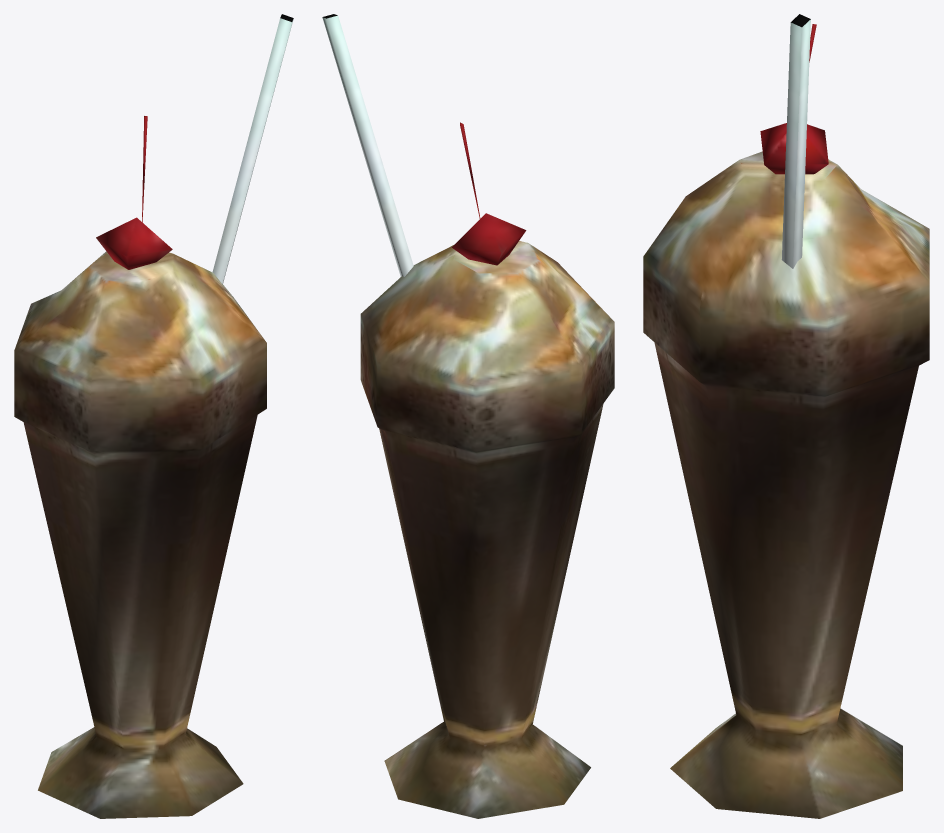
File: Milk_shake_01.dae
3 renders of one model, left to right at view 1: azimuth 30°, elevation 25°; view 2: azimuth 150°, elevation 25°; view 3: azimuth 270°, elevation 25°, orthographic. The views are drawn at different scales.
Parts seen in each view (by area): view 1: Milk_shake_01; view 2: Milk_shake_01; view 3: Milk_shake_01.
Boxes of the visible parts, box(x1,y1,x2,y2) form: Milk_shake_01: box(14, 14, 293, 818); Milk_shake_01: box(322, 14, 614, 818); Milk_shake_01: box(643, 14, 929, 818).
Bounding box in the file's own units: 0.142 × 0.1131 × 0.3646.
Materials: 1 (1 with a texture image).
